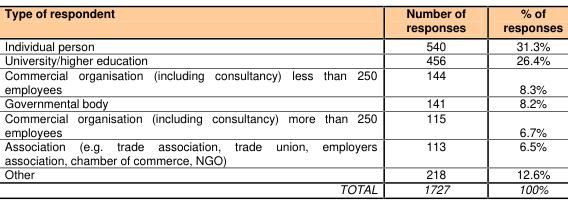table: (3, 4, 562, 196)
table column: (3, 4, 391, 196), (391, 4, 483, 196), (483, 4, 562, 196)
table column header: (3, 4, 562, 35)
table row: (3, 4, 562, 35), (3, 109, 562, 138), (3, 67, 562, 95), (3, 138, 562, 166), (3, 35, 562, 52), (3, 52, 562, 67), (3, 166, 562, 181), (3, 181, 562, 196), (3, 95, 562, 109)
